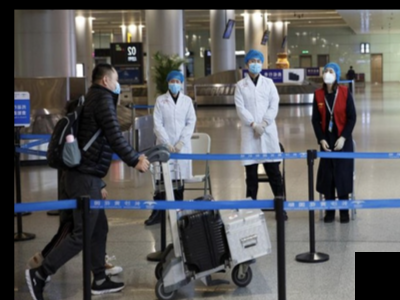with_mask: (109, 73, 122, 95), (322, 67, 336, 84), (247, 57, 261, 74), (167, 77, 180, 95)
